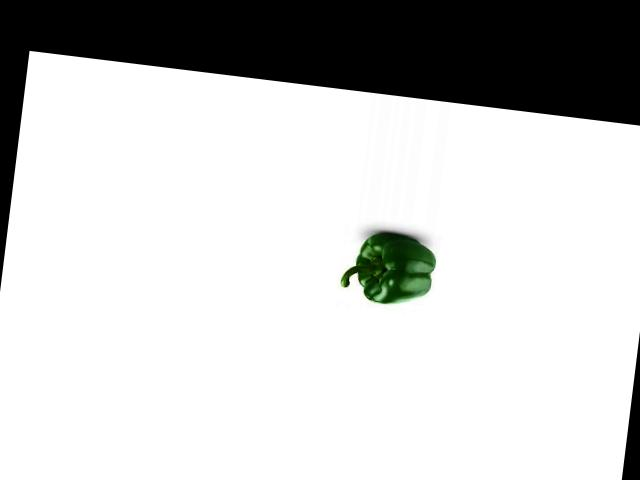bell_pepper: (336, 229, 441, 310)
